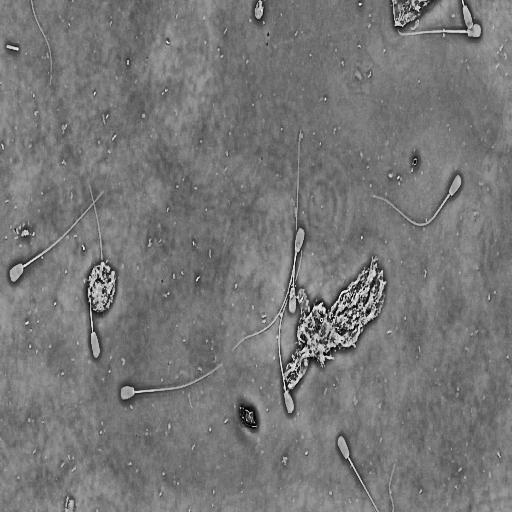dirt-particles: (282, 252, 387, 393), (84, 258, 118, 316), (389, 0, 437, 31), (237, 402, 260, 431), (252, 0, 265, 23)
loose-tail: (30, 0, 53, 91)
normal: (230, 225, 307, 354), (8, 187, 106, 287), (373, 170, 463, 229), (120, 360, 225, 403), (278, 244, 304, 417), (336, 432, 380, 511), (287, 127, 304, 315), (87, 174, 104, 361), (396, 21, 484, 43)
